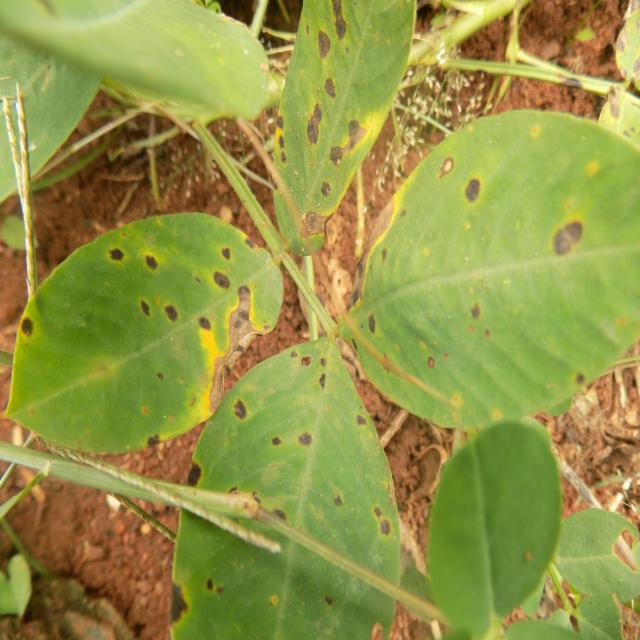Ground nut_tikka leaf spot: (348, 106, 640, 427), (175, 343, 399, 640), (11, 214, 283, 456), (277, 0, 415, 255)
